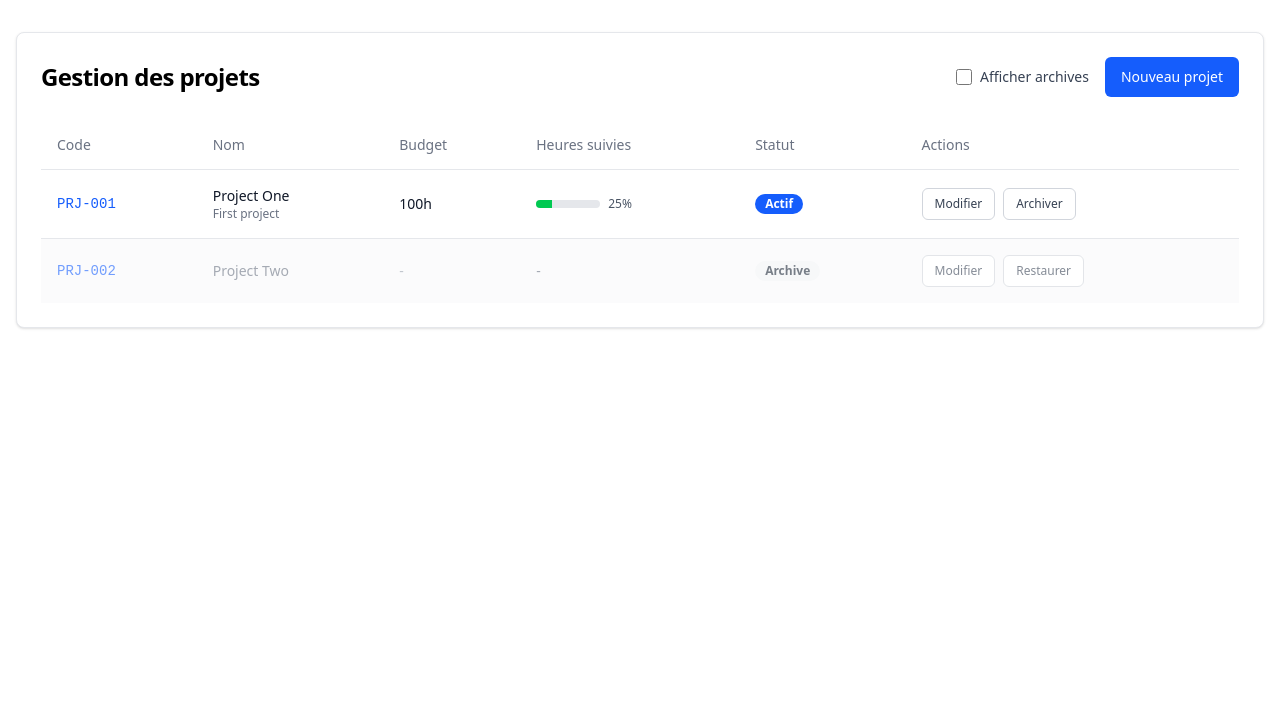
Test: ProjectsPage › opens create modal when clicking "Nouveau projet"
The image size is (1280, 720).
Expected: the text "PRJ-001" is shown, left=57, top=196, right=116, bottom=212
Click the button "Nouveau projet" at (1172, 77), box left=1105, top=57, right=1239, bottom=97
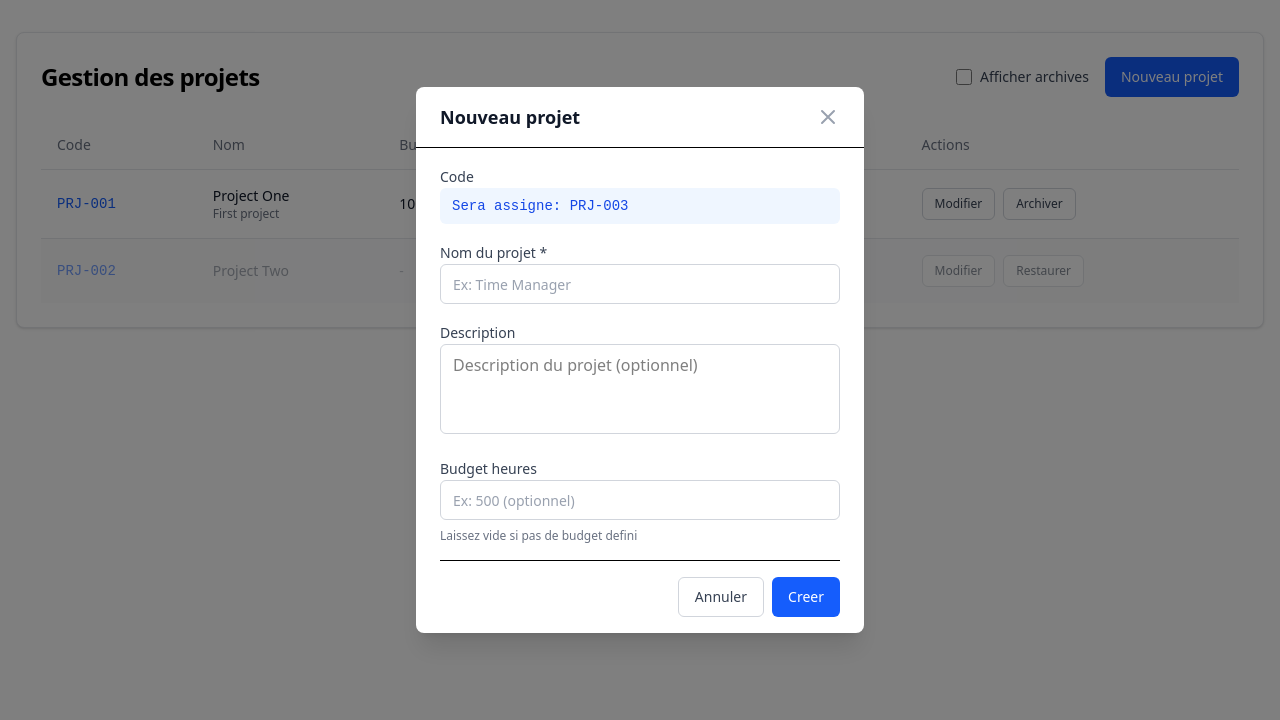
Expected: the heading "Nouveau projet" is shown, left=440, top=103, right=580, bottom=131
